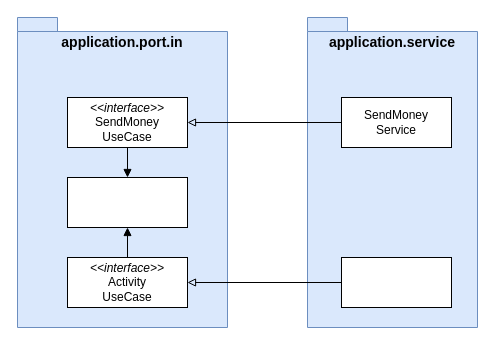
Image size: 495x345. Some labels were removed from this diagram. The centre of each missing label's shape, as x and y in pixels:
Activity Service: pixel 396 282
SendMoney Command: pixel 127 202
